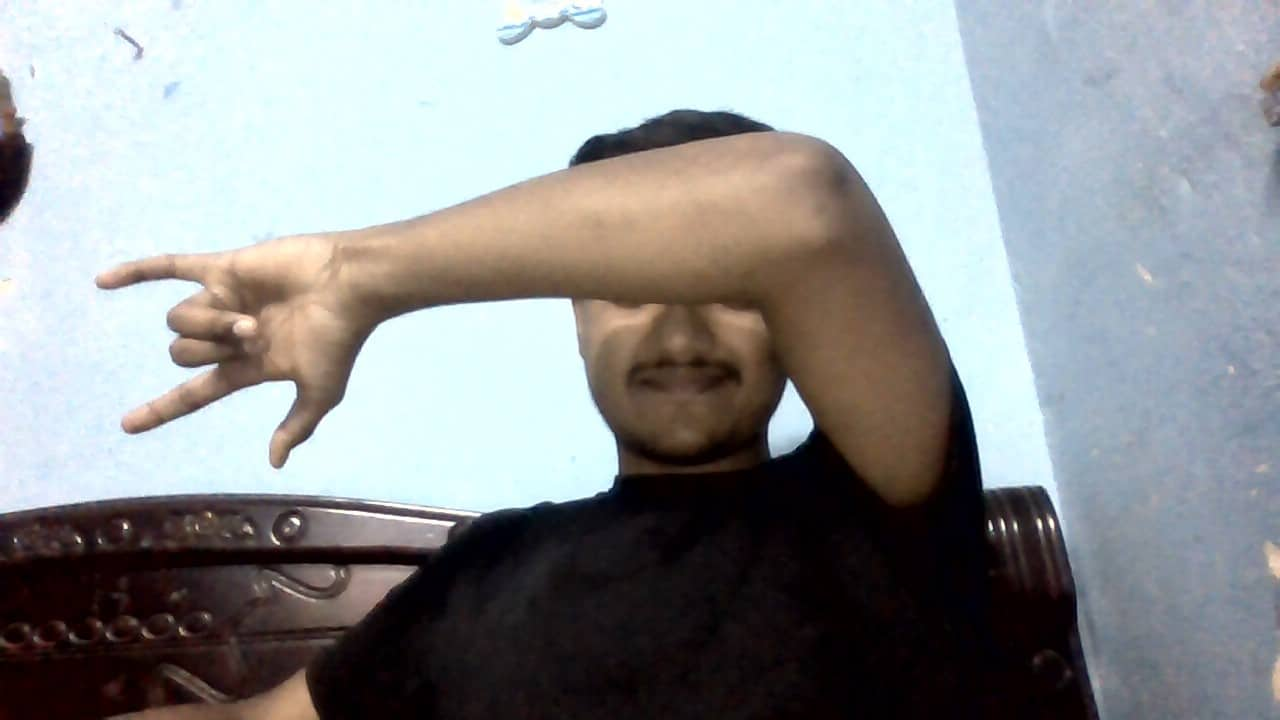hand: (93, 229, 358, 471)
